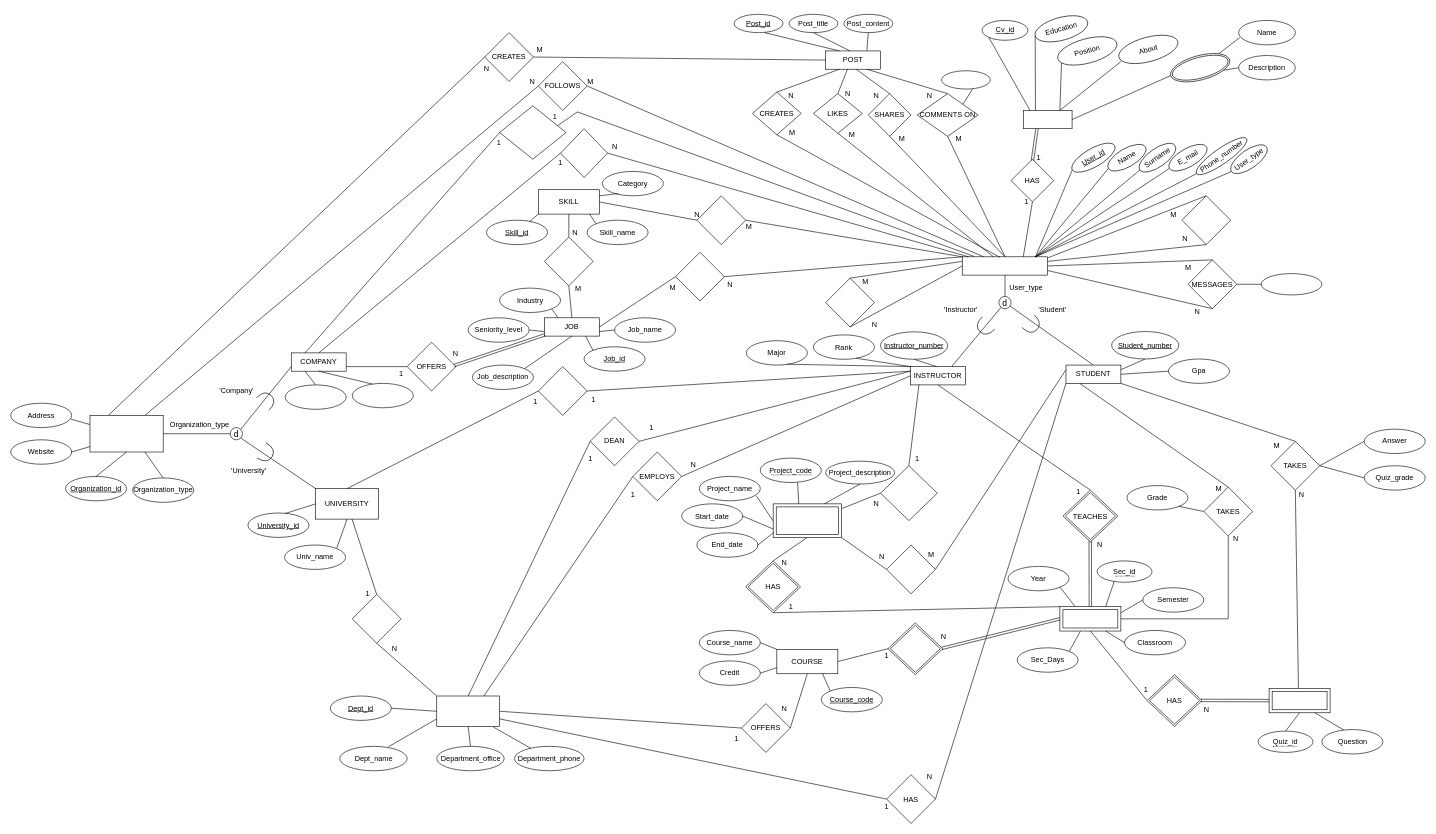
Some shapes in this 1436 by 834 pixel diagram are drawn without their labels. Each missing label, with the box of its shape:
ADMINISTERS: (499, 105, 566, 159)
APPLIES TO: (675, 252, 724, 301)
BELONGS TO: (352, 594, 401, 643)
Comment: (941, 70, 990, 89)
Company_id: (285, 384, 346, 409)
Company_name: (352, 383, 413, 408)
CONNECTS: (825, 278, 874, 327)
CV: (1023, 110, 1072, 129)
DEPARTMENT: (436, 695, 500, 727)
KNOWS: (696, 195, 746, 245)
Message_text: (1261, 273, 1322, 295)
ORGANIZATION: (89, 415, 163, 452)
PROJECT: (773, 503, 841, 537)
Projects: (1167, 47, 1233, 87)
QUIZ: (1268, 688, 1330, 713)
RECTOR: (538, 366, 587, 415)
REFERS TO: (1181, 195, 1231, 245)
REQUIRES: (544, 236, 593, 286)
SECS: (887, 622, 943, 675)
SECTION: (1059, 606, 1121, 631)
SUPERVISES: (880, 465, 937, 521)
USER: (962, 256, 1048, 275)
WORKS IN: (560, 128, 608, 178)
WORKS ON: (886, 544, 935, 594)
